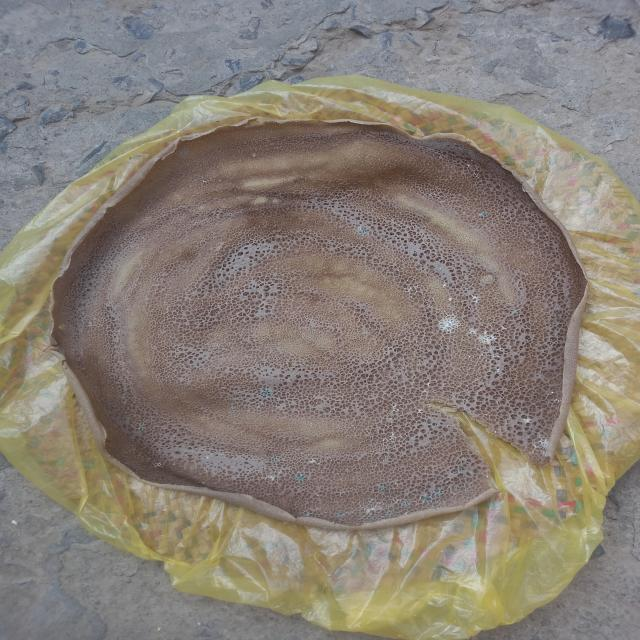injera_mold: (469, 322, 513, 375), (433, 312, 463, 334), (540, 389, 562, 419), (530, 433, 552, 460), (388, 402, 423, 417), (357, 498, 384, 515), (377, 431, 404, 445), (465, 157, 482, 179), (402, 283, 422, 297), (266, 472, 284, 485), (376, 482, 389, 492), (358, 226, 369, 237), (470, 294, 480, 305), (151, 461, 166, 468), (434, 489, 446, 497), (296, 474, 306, 482), (262, 389, 271, 397), (522, 418, 532, 425), (400, 501, 411, 507), (334, 512, 345, 518), (309, 459, 320, 465), (386, 510, 394, 518), (270, 455, 280, 461), (457, 466, 466, 472), (86, 322, 95, 328), (421, 495, 429, 501), (228, 406, 236, 412), (256, 402, 264, 408), (251, 153, 259, 159), (138, 424, 146, 429), (479, 212, 487, 217), (304, 512, 311, 516), (448, 297, 454, 301), (441, 284, 446, 288), (202, 180, 207, 183)
